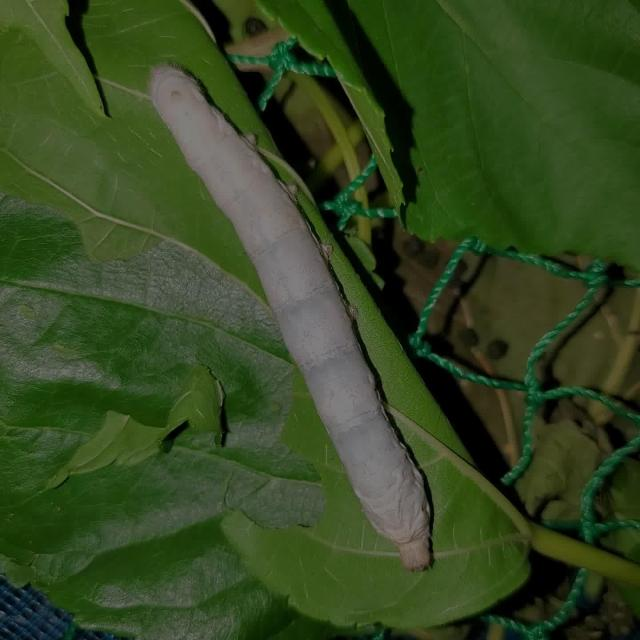Healthy: (120, 48, 469, 587)
